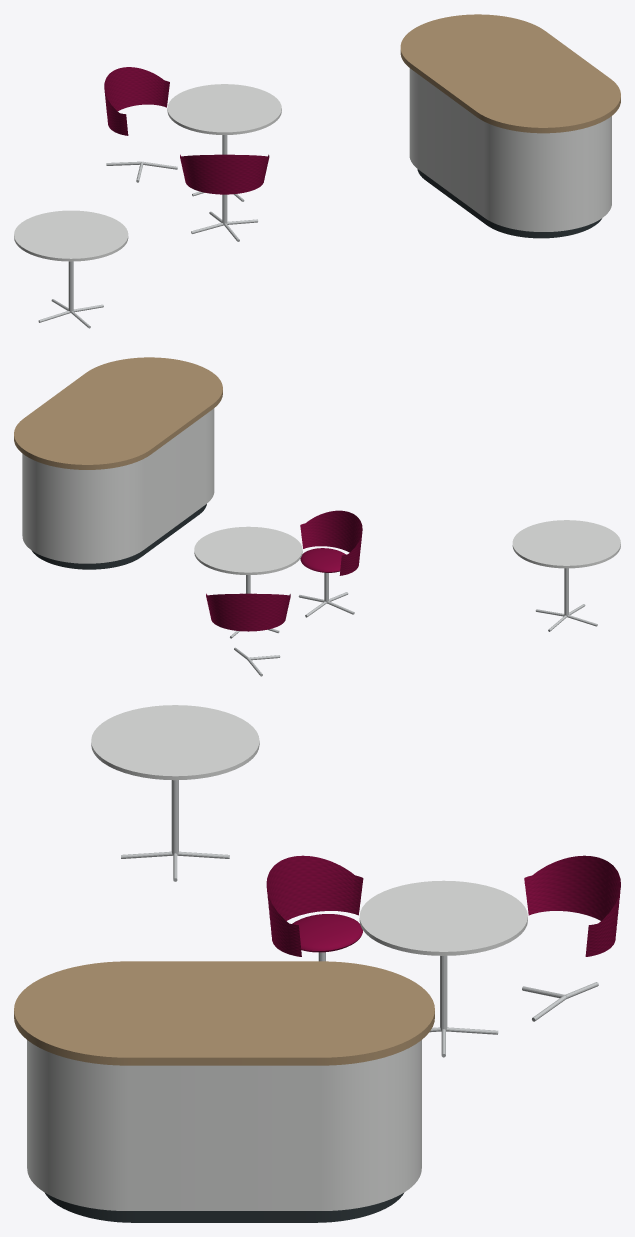
Rendered from SM_L5_Furniture_Solid_b53db42c9d_2.fbx.
The picture shows the model from 3 angles, top to bottom: view 1: azimuth 30°, elevation 25°; view 2: azimuth 150°, elevation 25°; view 3: azimuth 270°, elevation 25°; orthographic projection. The views are drawn at different scales.
Visible parts, largest first — view 1: SM_L5_Furniture_Solid_b53db42c9d_2; view 2: SM_L5_Furniture_Solid_b53db42c9d_2; view 3: SM_L5_Furniture_Solid_b53db42c9d_2.
Part boxes in pixels (left/top/right/bottom): SM_L5_Furniture_Solid_b53db42c9d_2: left=14, top=14, right=620, bottom=328; SM_L5_Furniture_Solid_b53db42c9d_2: left=14, top=357, right=620, bottom=676; SM_L5_Furniture_Solid_b53db42c9d_2: left=14, top=705, right=620, bottom=1222.
Size of the model in its own units: 5.55 by 3.46 by 1.11.
